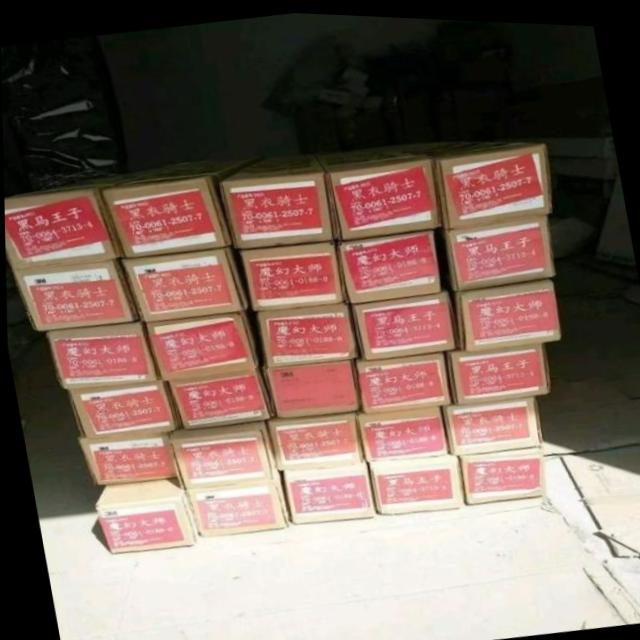box: (374, 119, 550, 224), (101, 160, 242, 261), (310, 135, 441, 236), (3, 175, 126, 268), (219, 148, 335, 245), (121, 243, 255, 322), (334, 225, 455, 304), (141, 306, 263, 382), (12, 259, 139, 332), (446, 208, 555, 288), (47, 321, 162, 391), (237, 235, 346, 307), (169, 417, 278, 488), (346, 289, 458, 358), (451, 273, 561, 343), (93, 476, 193, 552), (181, 470, 291, 537), (163, 365, 272, 428), (254, 302, 363, 364), (64, 380, 178, 437), (447, 337, 548, 401), (352, 346, 455, 408), (441, 388, 540, 450), (263, 407, 362, 469), (264, 409, 362, 468), (362, 452, 460, 511), (280, 461, 374, 521), (263, 359, 361, 416), (78, 429, 176, 485), (456, 439, 544, 500), (355, 404, 452, 457)
